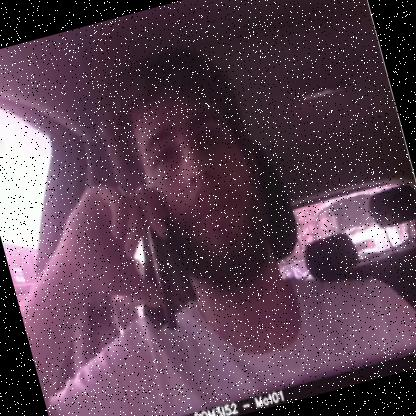phone: (106, 169, 200, 342)
